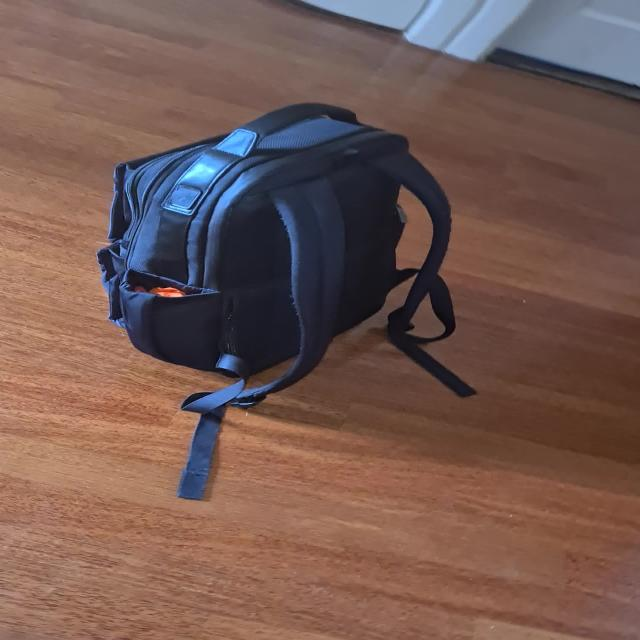backpack: (84, 92, 451, 394)
